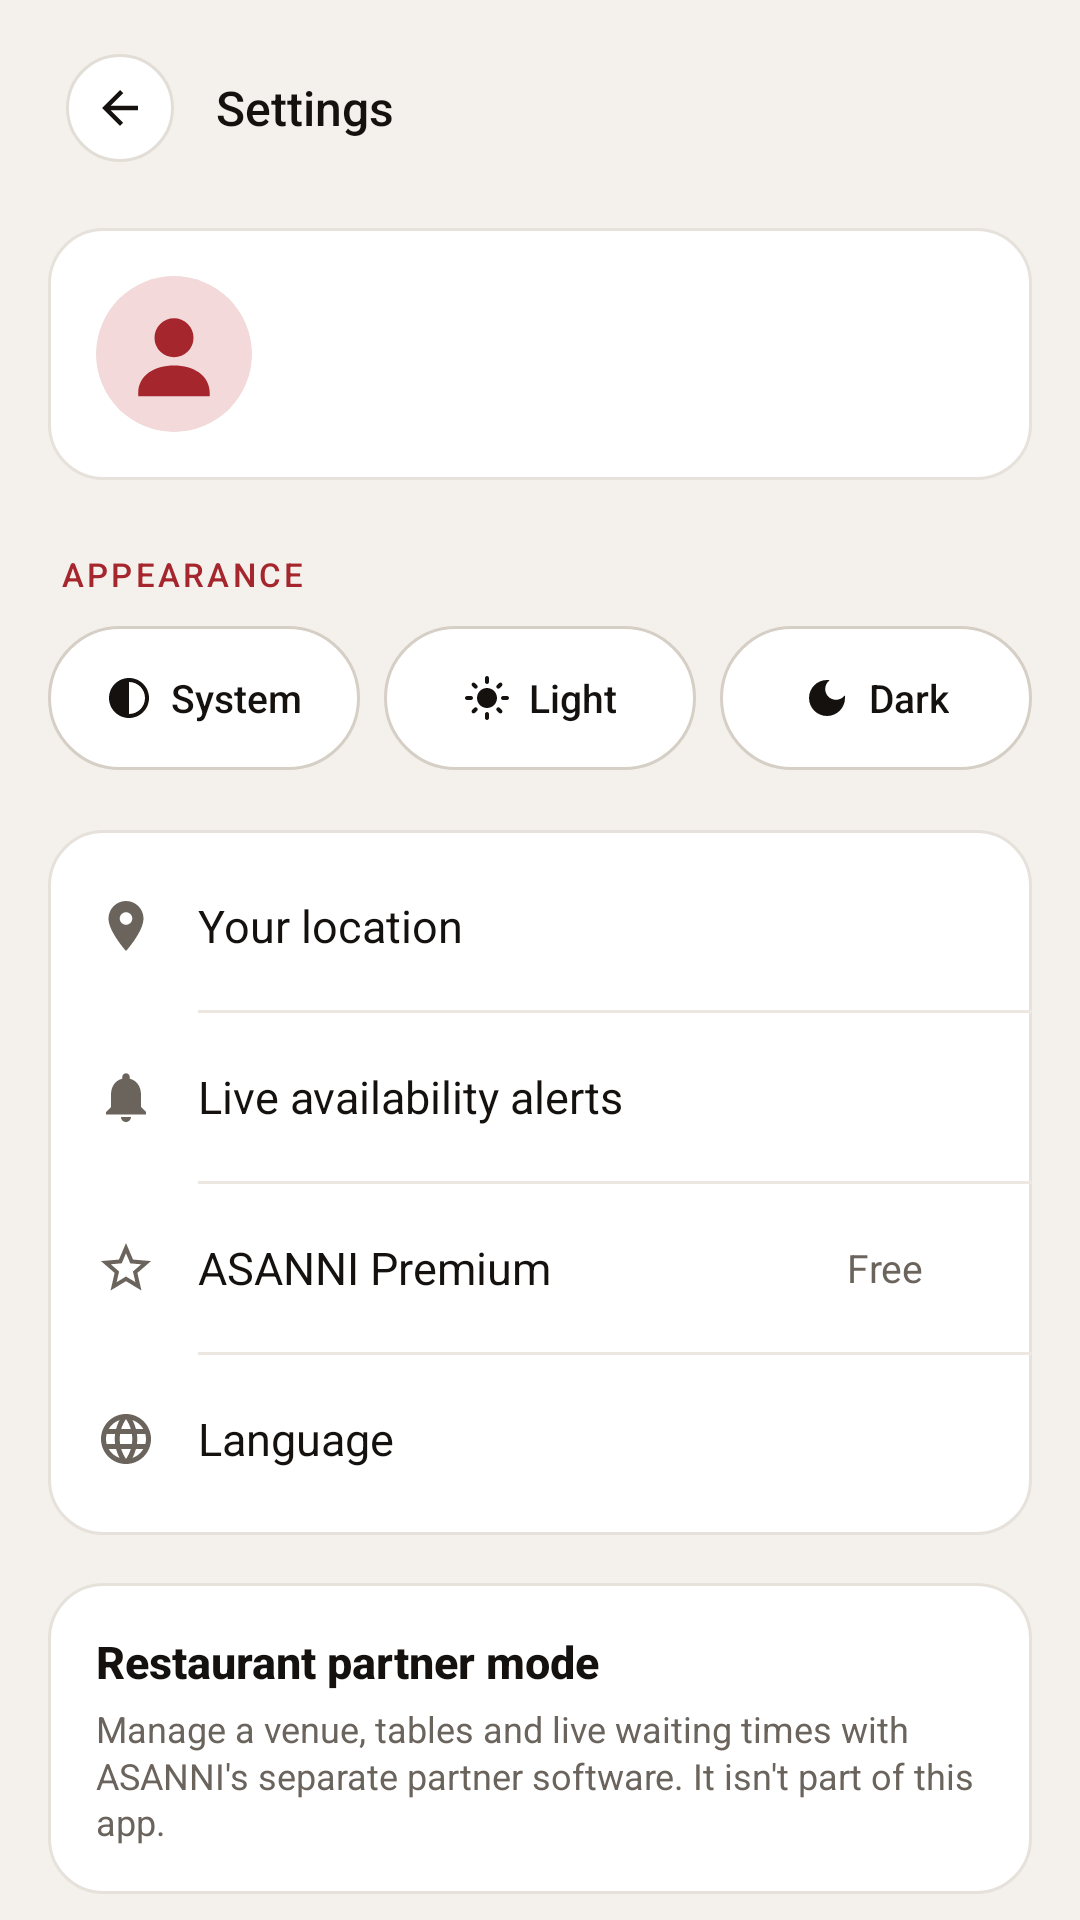

Locate icon controls on the screen. Image size 1080px x 1920px, boxes as (x1, y1, x2, y2).
arrow back: (66, 54, 174, 162)
brightness auto: (109, 678, 149, 718)
location pin: (108, 901, 144, 951)
notifications: (106, 1073, 146, 1122)
star: (101, 1243, 151, 1290)
